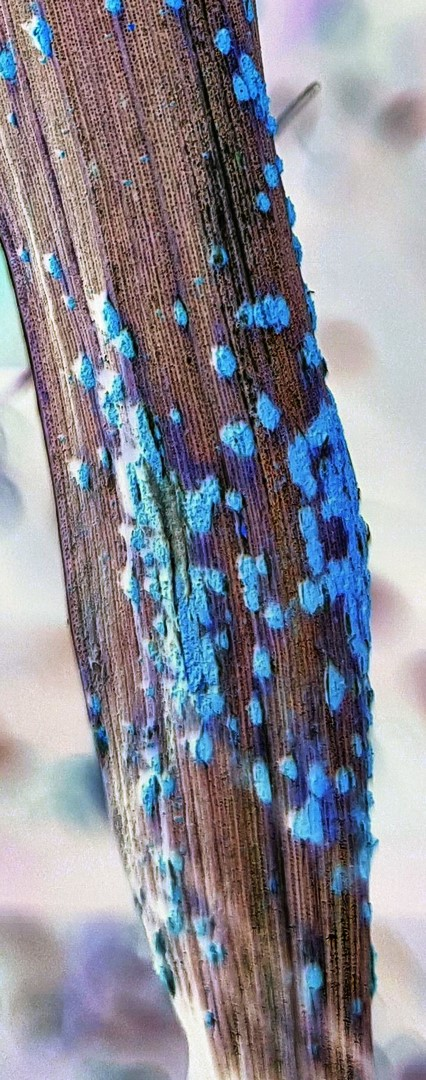Leaf Rust: (7, 171, 412, 979)
